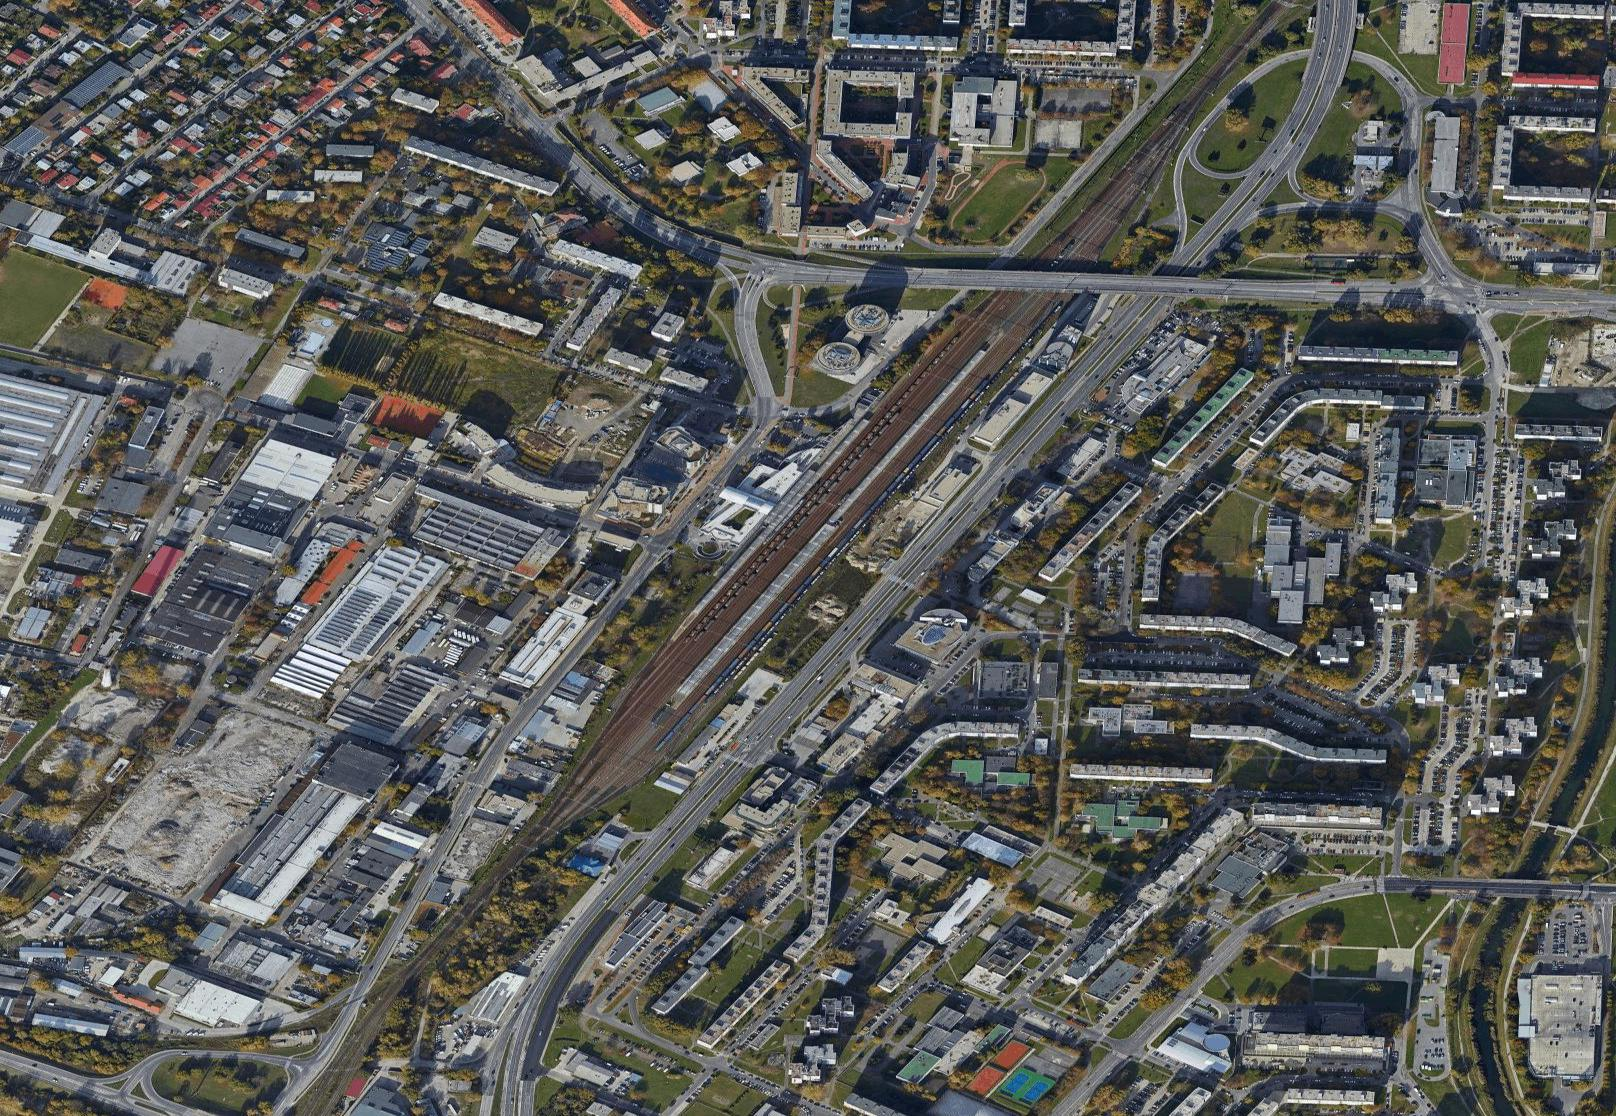bridge: (961, 264, 1198, 303)
motorway: (1211, 96, 1321, 231), (543, 843, 655, 972), (657, 726, 769, 854), (767, 602, 879, 730), (880, 478, 992, 606), (991, 354, 1106, 478), (1108, 234, 1223, 357), (620, 194, 765, 275), (515, 98, 621, 196), (411, 1, 517, 99), (491, 964, 553, 1116), (763, 255, 963, 296), (1202, 266, 1402, 307), (1298, 1, 1361, 96)
train_station: (667, 392, 912, 674)
